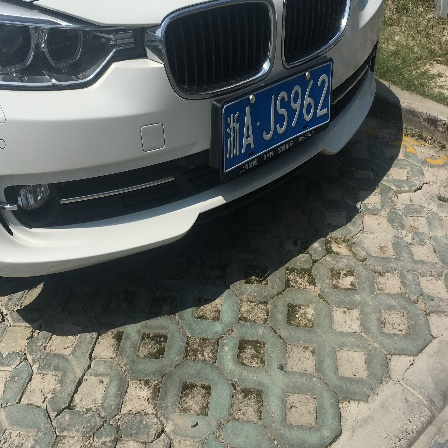plate: (217, 59, 338, 170)
